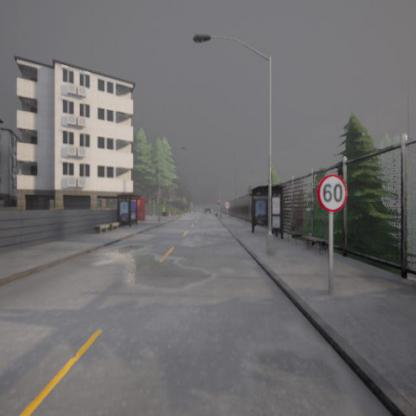traffic_sign_60: (317, 174, 347, 212)
